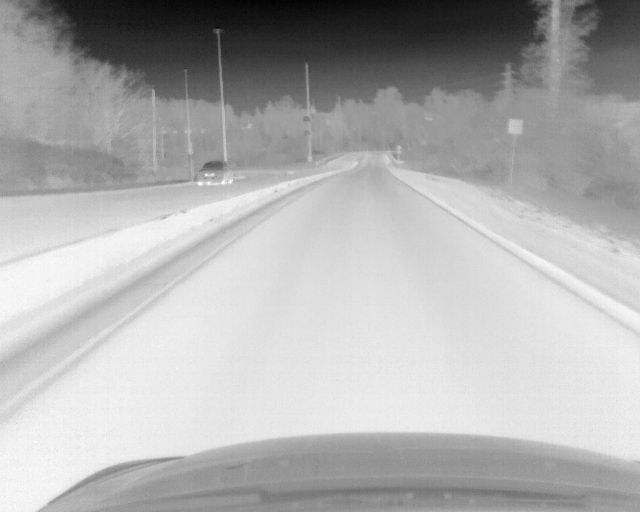car: (195, 159, 233, 186)
